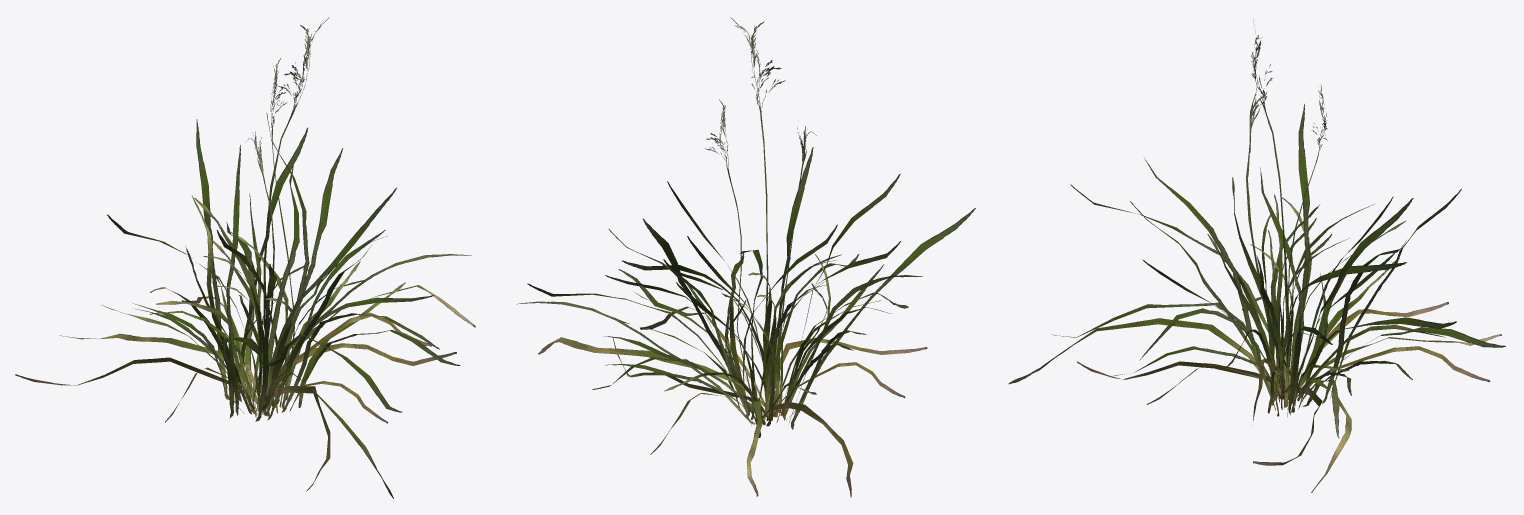
The model's file is grass-medium-01-mid-b.glb.
3 renders of one model, left to right at view 1: azimuth 30°, elevation 25°; view 2: azimuth 150°, elevation 25°; view 3: azimuth 270°, elevation 25°, orthographic. The views are drawn at different scales.
Parts seen in each view (by area): view 1: grass_medium_01_mid_b; view 2: grass_medium_01_mid_b; view 3: grass_medium_01_mid_b.
Part boxes in pixels (x1,y1,x2,y2): grass_medium_01_mid_b: [15, 17, 475, 498]; grass_medium_01_mid_b: [516, 17, 975, 497]; grass_medium_01_mid_b: [1008, 19, 1505, 492].
Bounding box in the file's own units: 0.1878 × 0.1777 × 0.201.
1 material, 1 textured.
